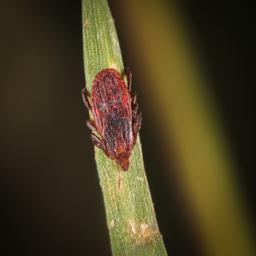Rhipicephalus sanguineus: (81, 69, 140, 171)
